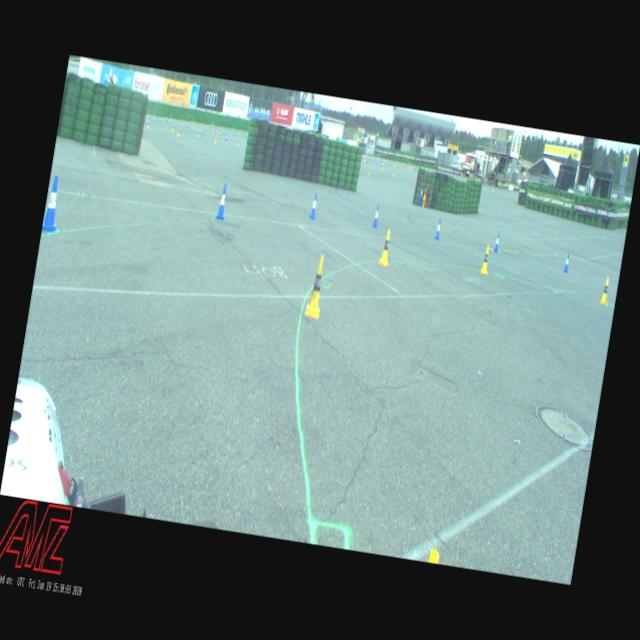blue_cone: (42, 176, 64, 233), (217, 184, 230, 220), (310, 192, 319, 218), (372, 205, 381, 228), (434, 218, 442, 240), (493, 232, 501, 252), (564, 253, 570, 274), (419, 188, 424, 198), (225, 134, 228, 141), (215, 127, 218, 134), (204, 126, 207, 132), (146, 118, 148, 126), (379, 162, 382, 167), (187, 122, 189, 128), (150, 114, 152, 120), (172, 122, 174, 128), (382, 162, 384, 168), (223, 129, 225, 135), (166, 116, 168, 122), (236, 132, 238, 136), (366, 160, 368, 163), (414, 167, 416, 170), (246, 134, 247, 138), (376, 161, 377, 165), (364, 160, 364, 164)
orange_cone: (217, 130, 220, 136), (402, 162, 404, 168)
yellow_cone: (306, 255, 328, 316), (380, 229, 392, 265), (481, 245, 492, 274), (600, 278, 611, 304), (423, 188, 427, 200), (215, 135, 218, 143), (368, 168, 371, 176), (147, 120, 150, 128), (198, 128, 200, 136), (238, 138, 240, 146), (178, 128, 180, 136), (172, 124, 174, 132), (392, 170, 394, 177), (364, 160, 366, 167), (182, 119, 184, 125), (194, 122, 196, 128), (154, 112, 156, 118), (221, 126, 223, 132), (383, 160, 385, 166), (170, 116, 172, 122), (148, 110, 150, 116), (382, 164, 384, 170), (492, 187, 494, 192), (401, 164, 403, 169), (192, 119, 195, 122), (202, 124, 204, 128), (393, 162, 395, 166), (212, 122, 214, 126), (386, 158, 388, 162), (396, 160, 398, 164), (213, 126, 214, 130), (240, 130, 241, 134), (233, 126, 234, 130), (365, 156, 366, 160), (408, 164, 409, 168), (409, 167, 410, 171), (411, 165, 412, 169), (398, 167, 398, 171)
